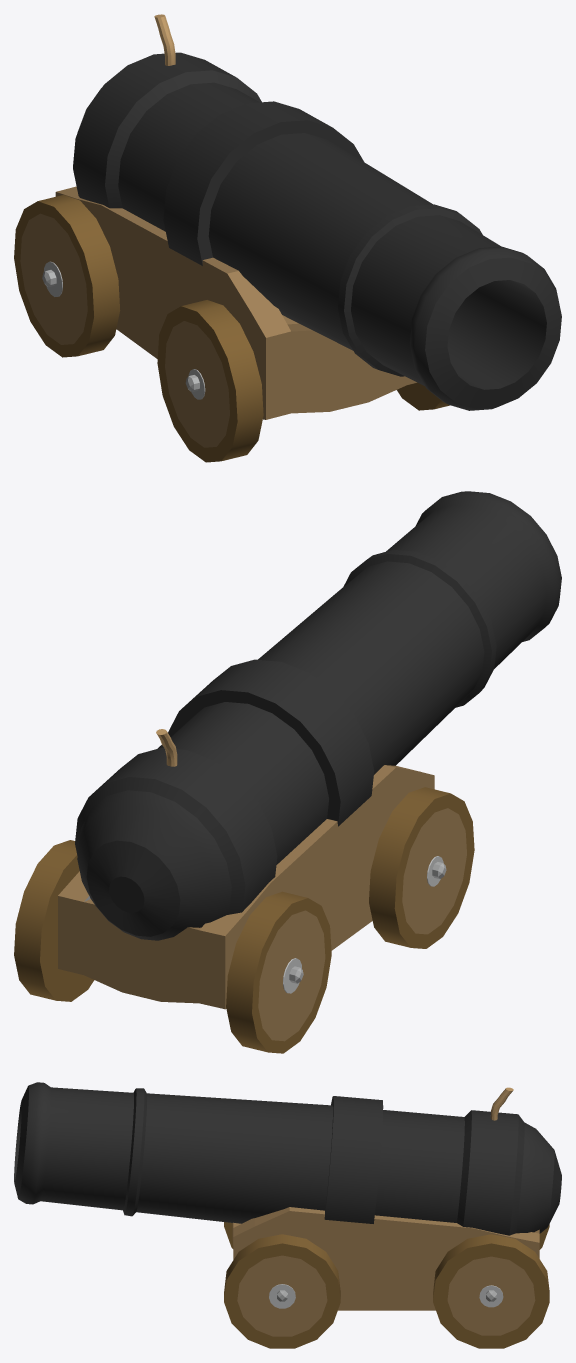
Rendered from Cannon.fbx.
3 renders of one model, top to bottom at view 1: azimuth 30°, elevation 25°; view 2: azimuth 150°, elevation 25°; view 3: azimuth 270°, elevation 25°, orthographic. The views are drawn at different scales.
Visible parts, largest first — view 1: pCylinder15; view 2: pCylinder15; view 3: pCylinder15.
Part boxes in pixels (box(x1,y1,x2,y2)): pCylinder15: box(14, 14, 561, 462); pCylinder15: box(14, 491, 561, 1053); pCylinder15: box(14, 1082, 561, 1348).
Bounding box in the file's own units: 72.14 × 80.66 × 184.
